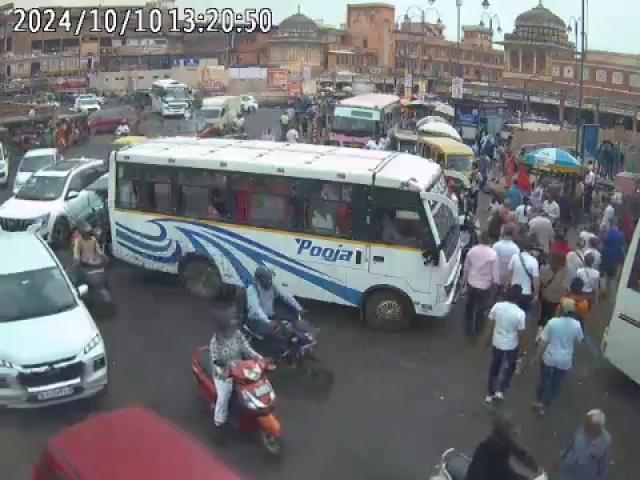bus: (109, 132, 460, 330), (602, 202, 638, 478), (329, 90, 402, 148)
car: (0, 220, 111, 408), (5, 153, 112, 243), (15, 146, 62, 188)
helmet: (492, 412, 526, 441), (213, 312, 240, 336), (253, 265, 280, 288)
license_plate: (36, 389, 74, 401)
motorbike-rider: (223, 264, 336, 391), (416, 402, 560, 480)
person: (536, 301, 588, 410), (483, 292, 527, 400), (554, 412, 616, 480), (284, 125, 300, 145)
scooty-rider: (192, 309, 284, 465)
